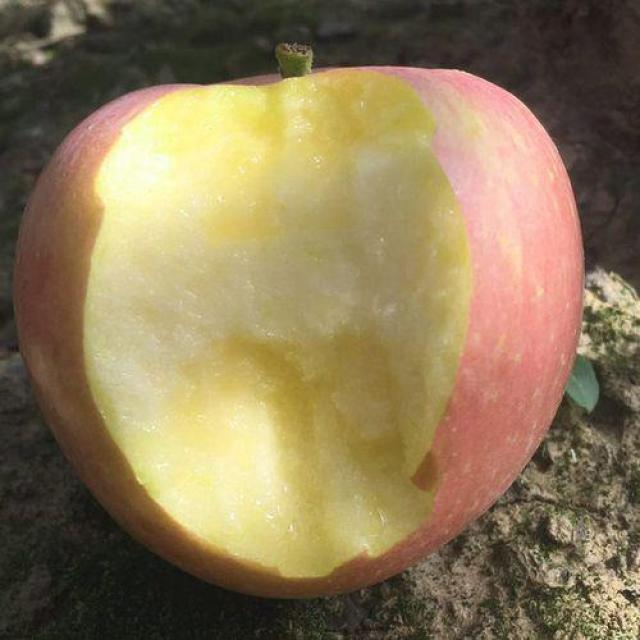Rotten: (29, 62, 611, 591)
